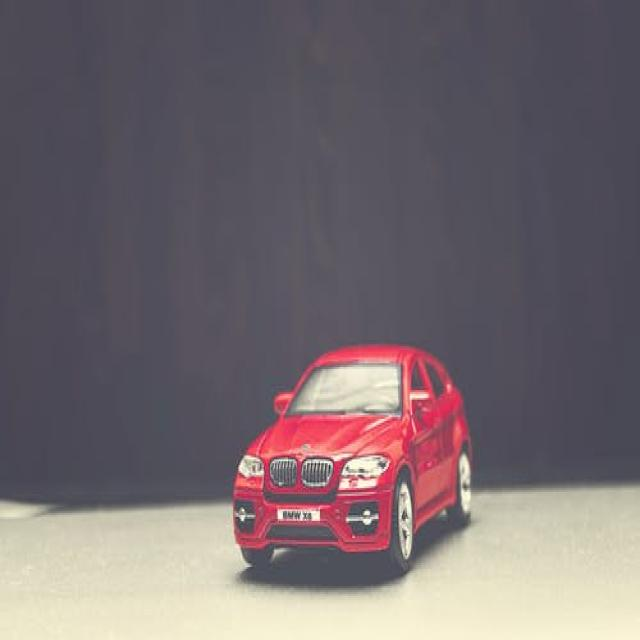Car: (232, 342, 472, 577)
